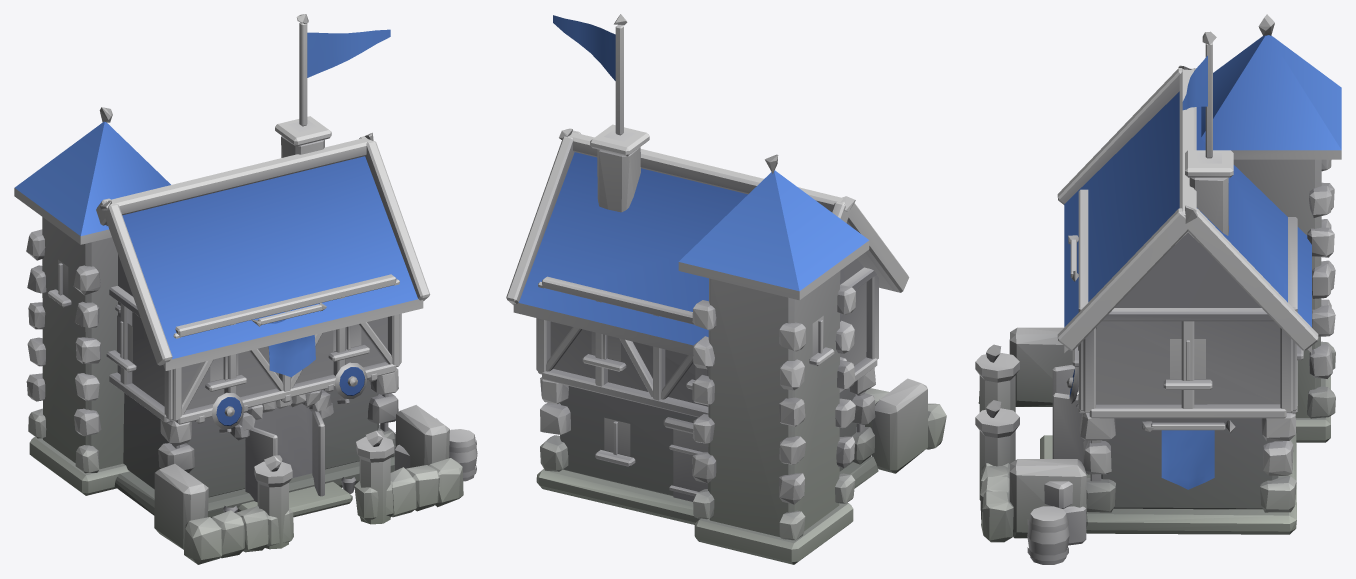
File: barracks_0_4.glb
3 views of the same model, side by side, from view 1: azimuth 30°, elevation 25°; view 2: azimuth 150°, elevation 25°; view 3: azimuth 270°, elevation 25° (orthographic). The views are drawn at different scales.
Visible parts, largest first — view 1: Tower; view 2: Tower; view 3: Tower.
Boxes of the visible parts, x1=… form: Tower: x1=14, y1=14, x2=477, y2=564; Tower: x1=506, y1=14, x2=946, y2=564; Tower: x1=975, y1=14, x2=1341, y2=564.
Bounding box in the file's own units: 4.01 × 5.03 × 3.46.
